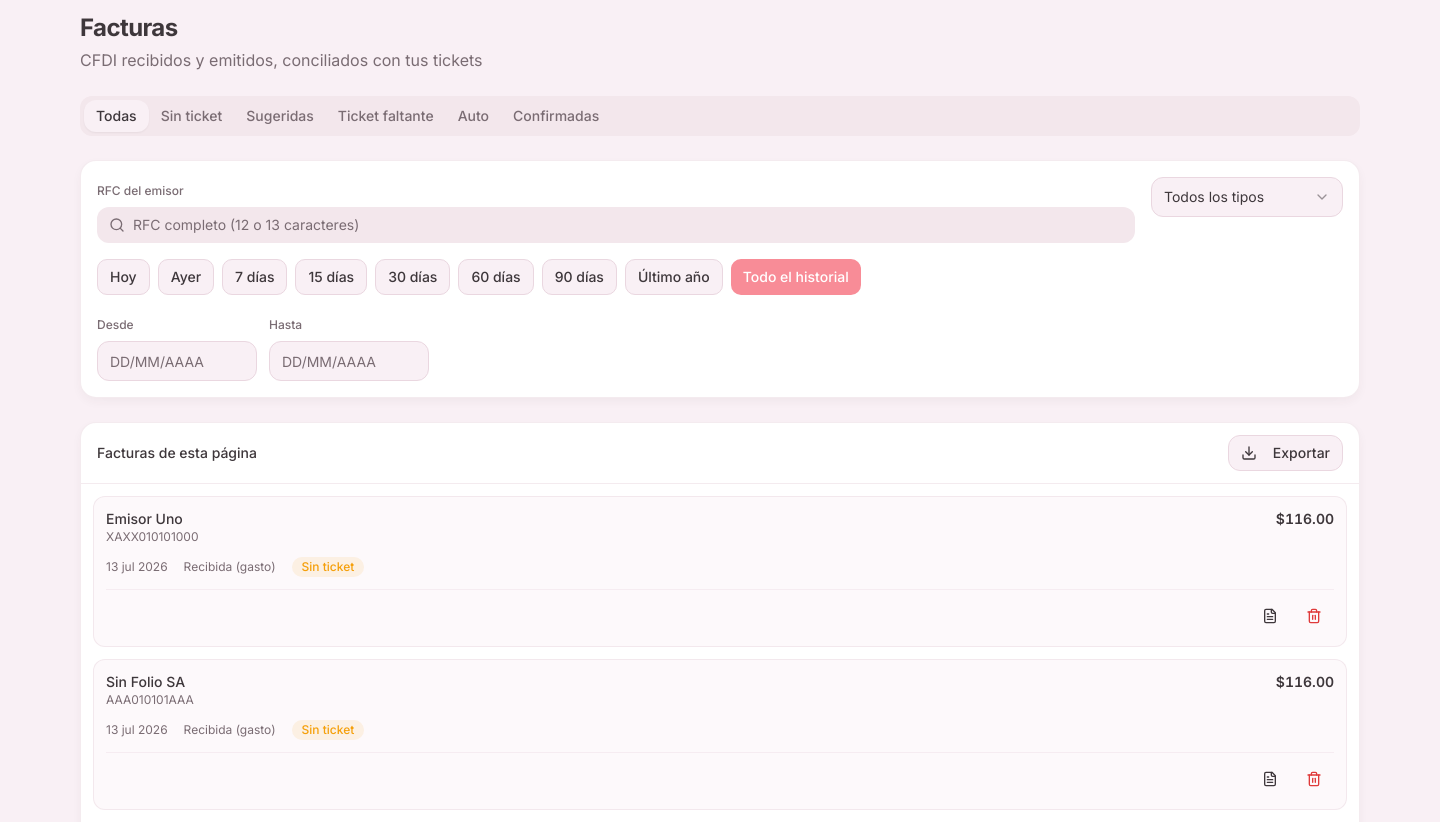
Test: InvoicesPage inventory and UUID safety › has accessible clear search control
Expected: the text "Emisor Uno" is shown, [106,510,183,527]
Type "abc" into the search field labelled "RFC del emisor".
click(628, 225); type("abc")  # box [133,215,1123,235]
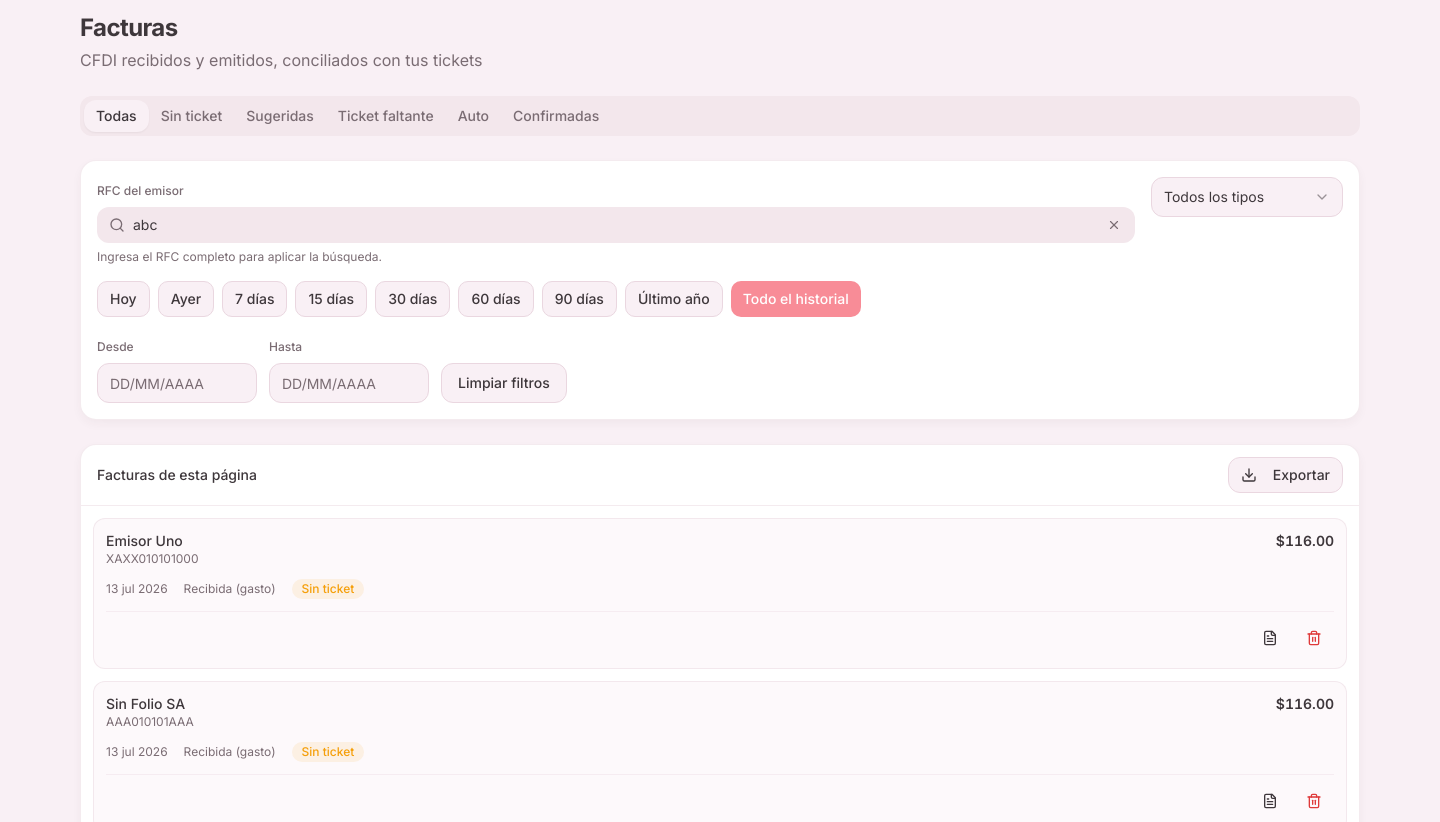
Expected: the button named "Limpiar búsqueda" is shown, [1105,216,1123,234]
